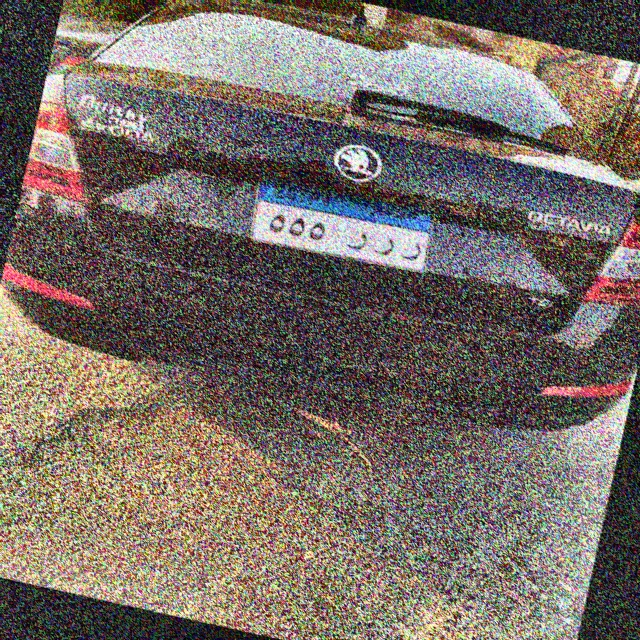License Plate: (243, 169, 439, 280)
